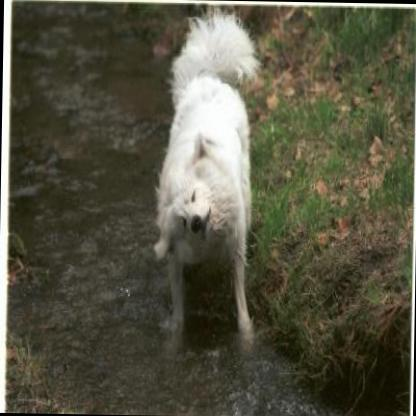Samoyed: (144, 4, 268, 372)
